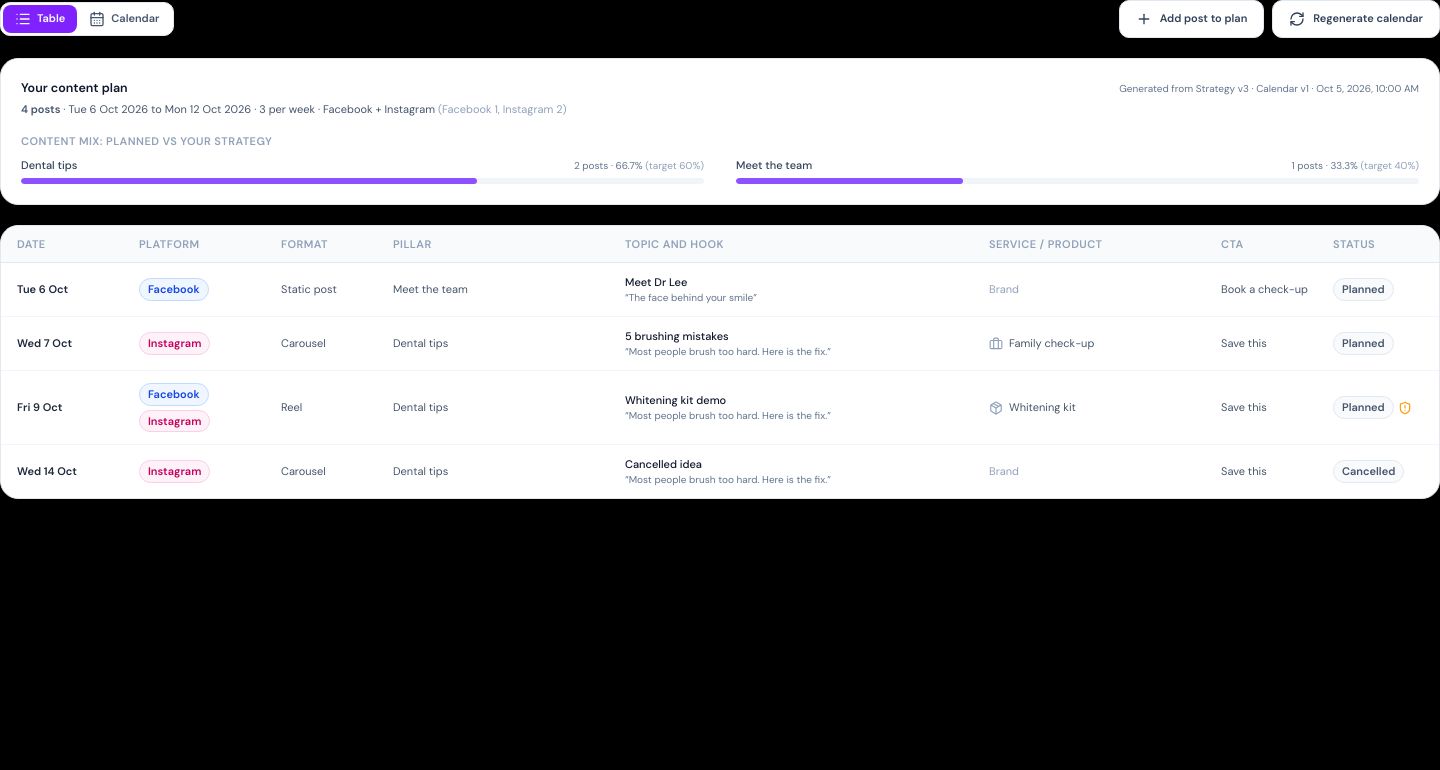
Scenario: Content plan — staleness and regeneration › regeneration is CONFIRMED first: nothing is sent until the user agrees; keeping the calendar sends nothing
Expected: the element with test id "plan-table" is shown, 0,225 -> 1439,499
What coordinates should you click on to do the following:
click the button with test id "regenerate-calendar"
I would click on:
 (1356, 19)
Its box is 1272,0 -> 1439,38.
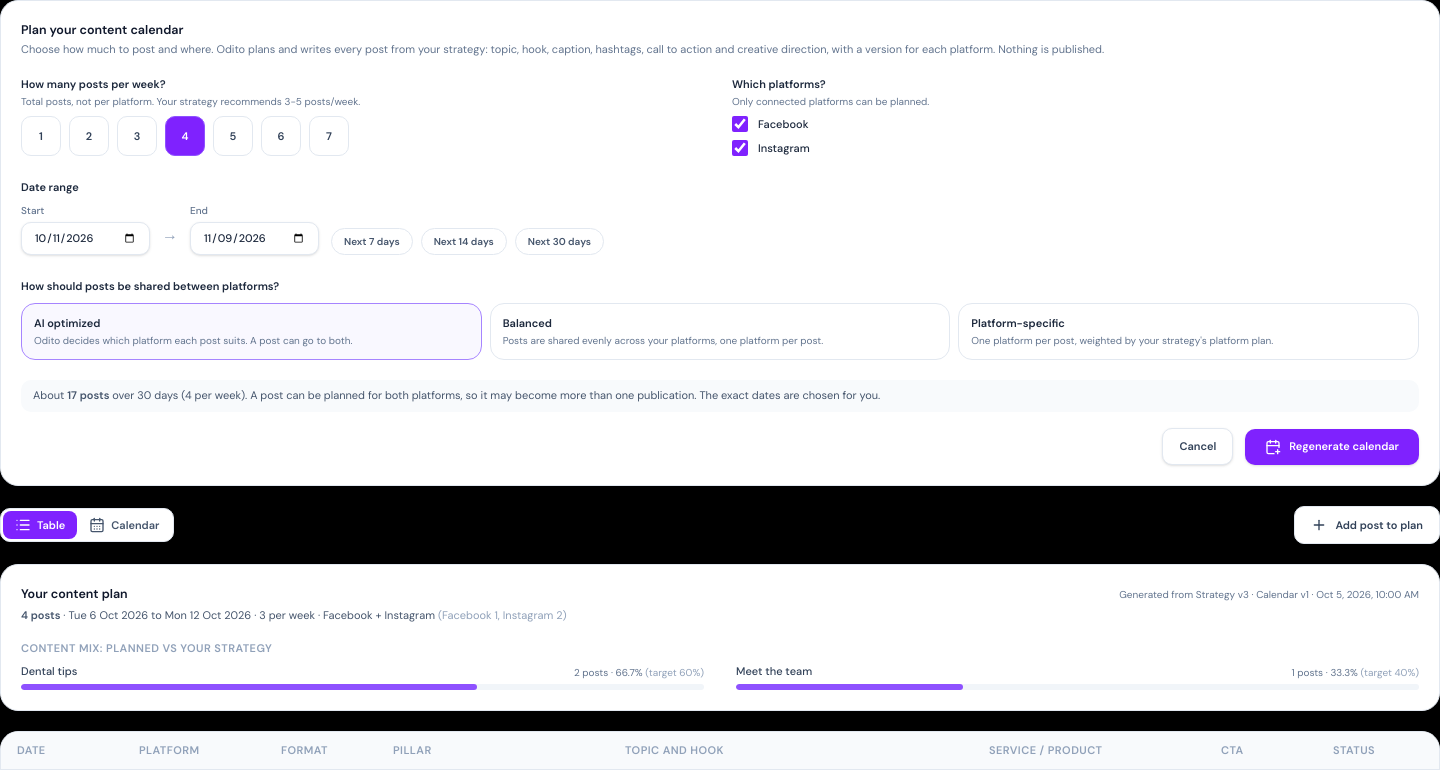
What coordinates should you click on to do the following:
click the button with test id "generate-calendar-button"
I would click on:
 (1332, 446)
Its box is 1245,428 -> 1419,464.
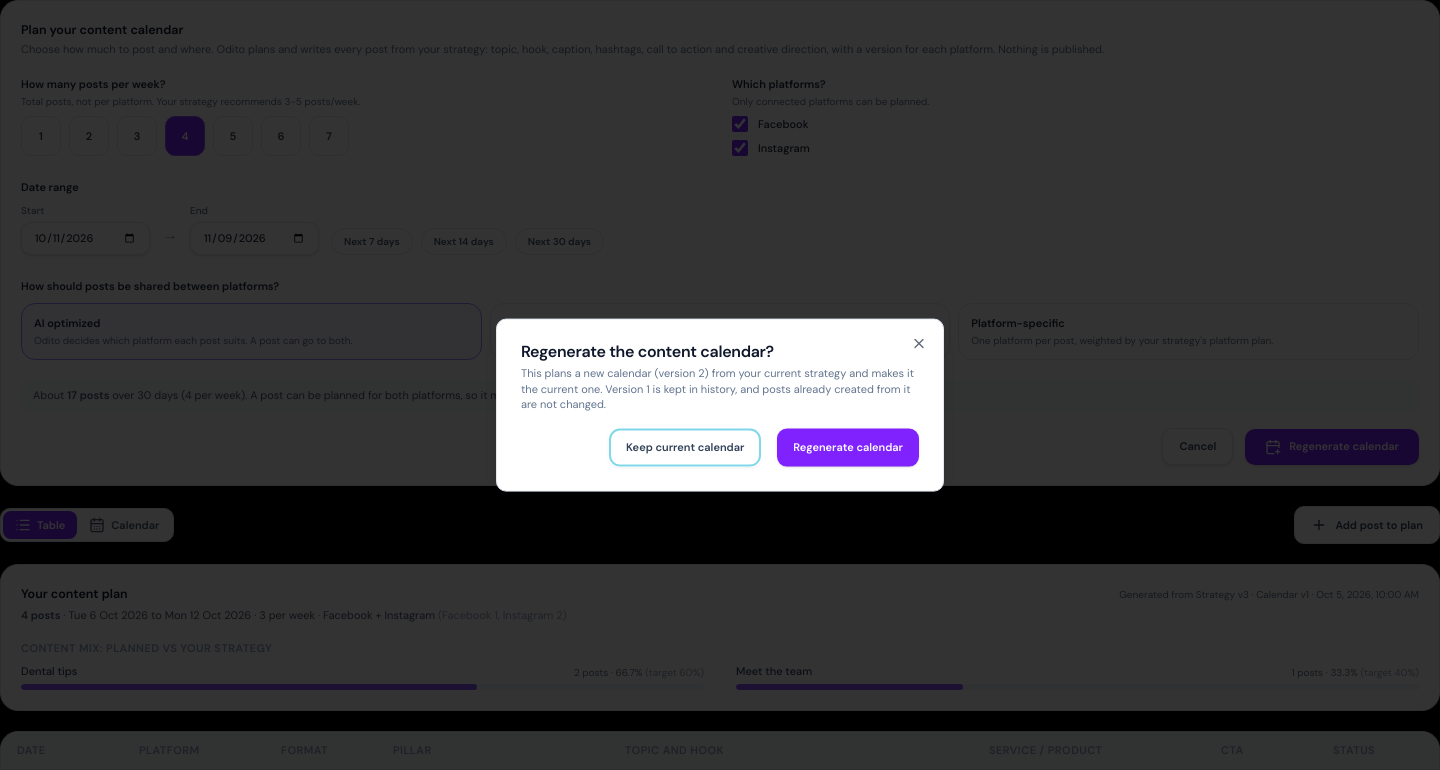
Result: the dialog shows "Regenerate the content calendar?" at 521,341 -> 774,362
Result: the dialog shows "Version 1 is kept in history" at 521,366 -> 914,411
Result: the dialog shows "version 2" at 521,366 -> 914,411
What coordinates should you click on to do the following:
click the button "Keep current calendar"
I would click on:
 (685, 448)
Its box is 609,429 -> 761,466.
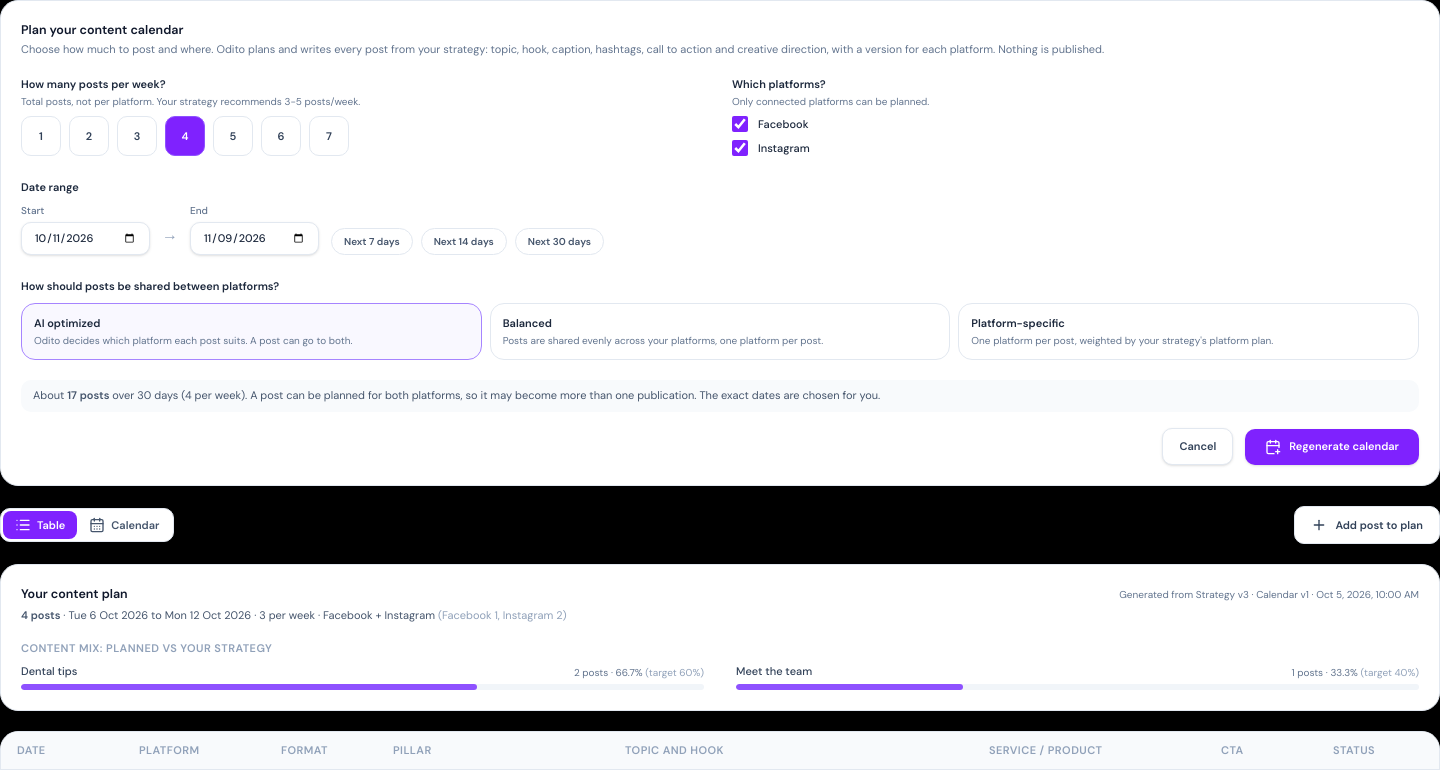
Result: the dialog is gone
